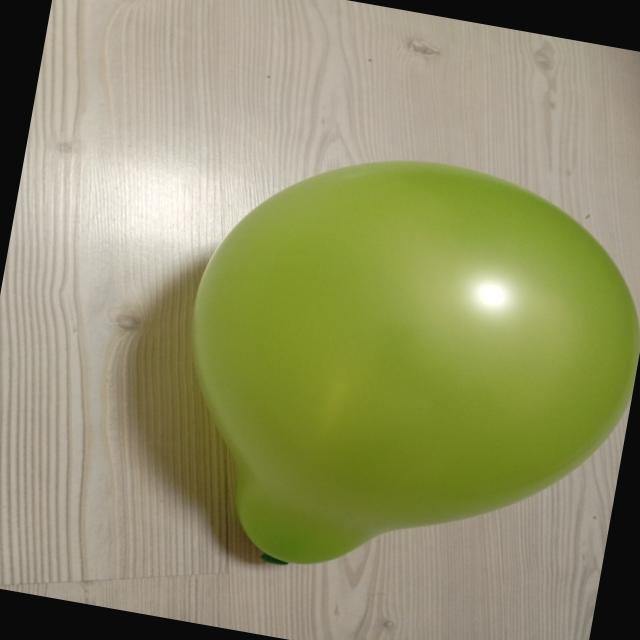balloon: (191, 161, 640, 563)
